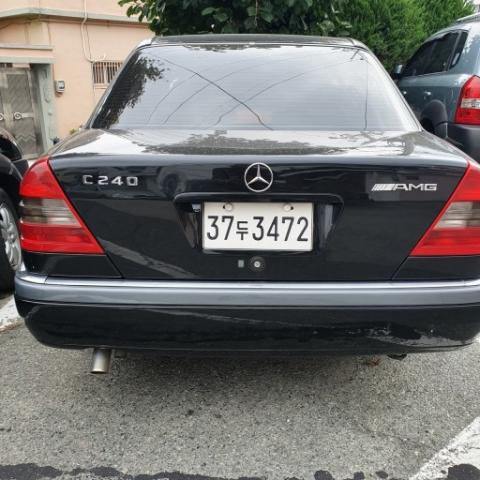LP: (197, 195, 321, 256)
